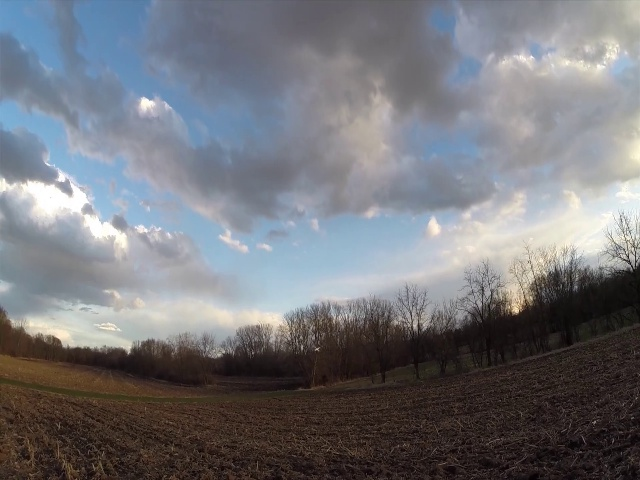drone: (313, 346, 321, 353)
